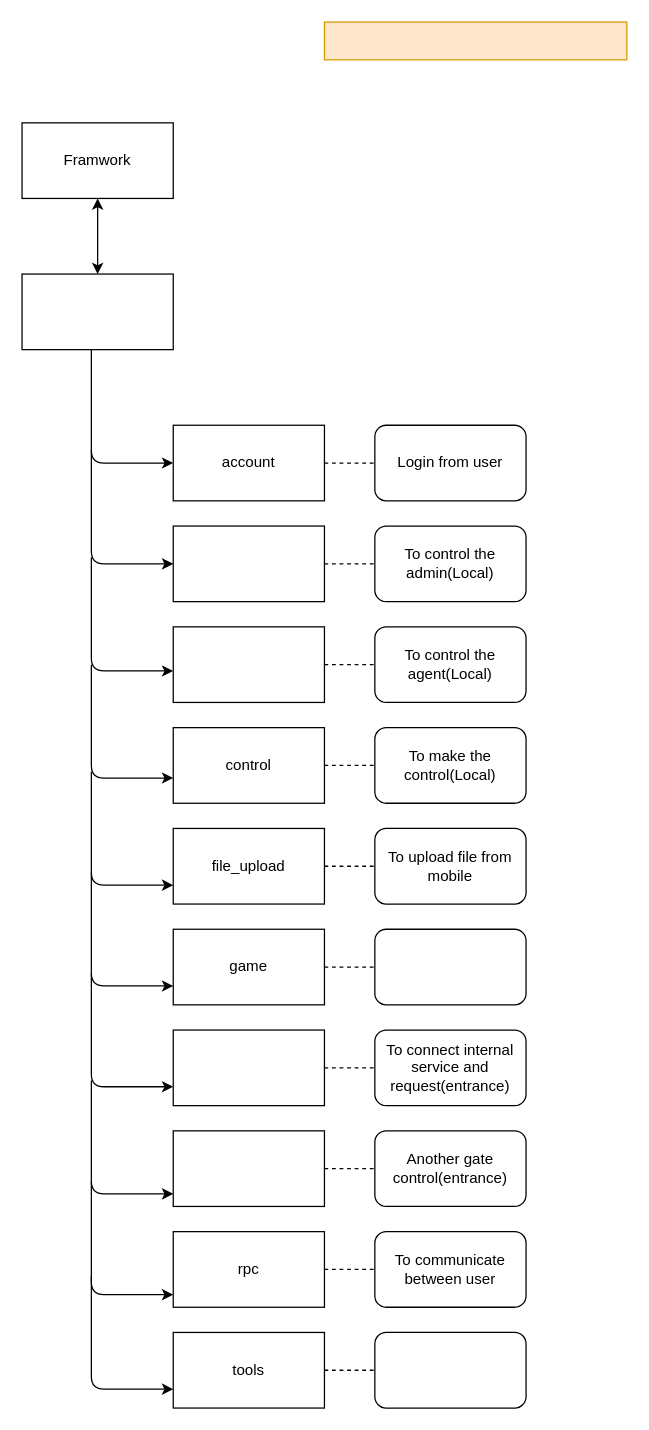
This 649x1430 diagram has some shape labels left out. Here are the shapes that lost their labels. From the top down, the box of each, then its label:
(323, 21, 627, 60): NinthArt Framwork
(21, 273, 173, 350): Server
(172, 525, 324, 602): admin
(172, 626, 324, 702): agent
(374, 928, 526, 1005): To control the game(Local)
(172, 1029, 324, 1106): gate
(172, 1130, 324, 1206): gate_control
(374, 1331, 526, 1408): To test but not too much use
